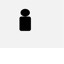human: (17, 6, 32, 32)
